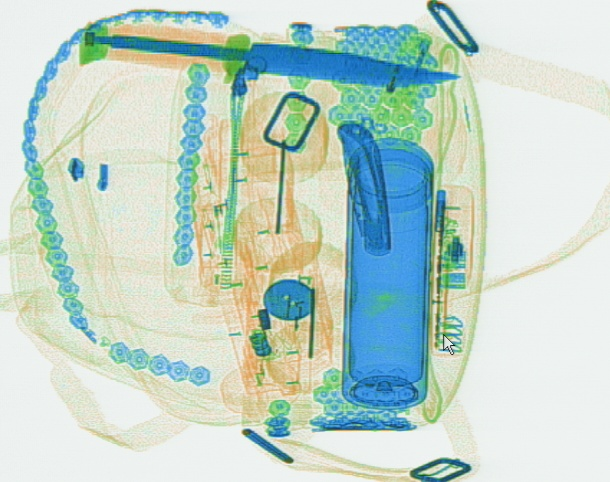knife: (82, 20, 461, 94), (333, 119, 393, 256)
